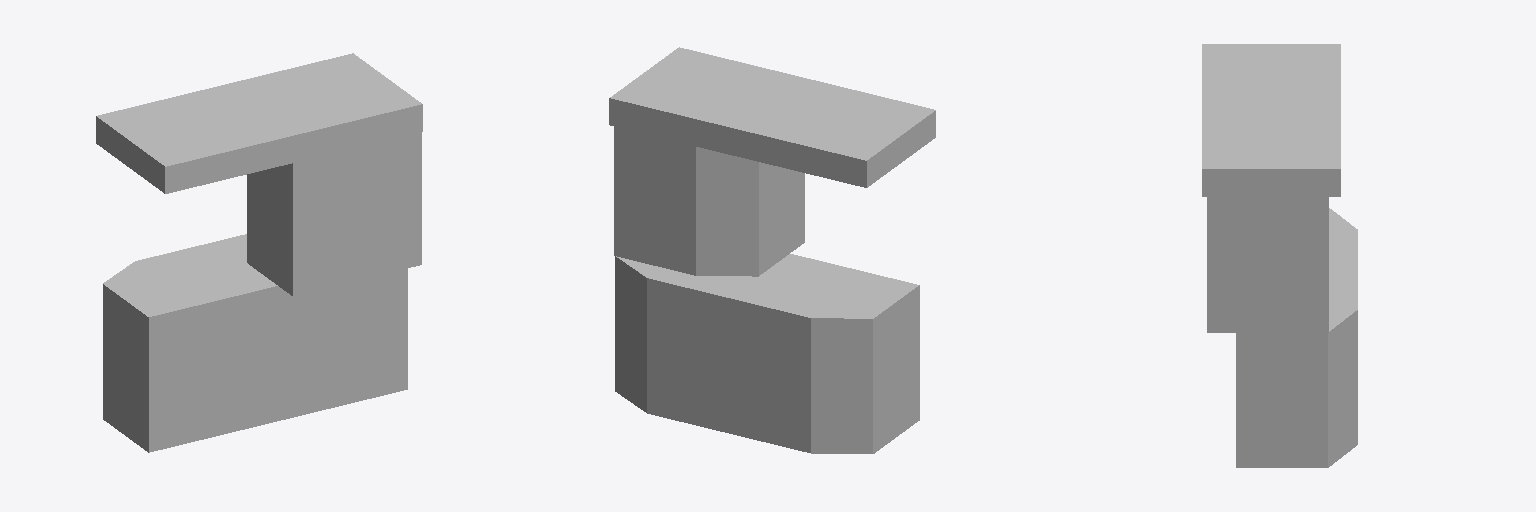
File: mylandscaping_block1_top_l.obj
The picture shows the model from 3 angles: view 1: azimuth 30°, elevation 25°; view 2: azimuth 150°, elevation 25°; view 3: azimuth 270°, elevation 25°; orthographic projection.
Parts seen in each view (by area): view 1: Block_Right_Top_Cube.023; view 2: Block_Right_Top_Cube.023; view 3: Block_Right_Top_Cube.023.
Boxes of the visible parts, x1,y1,x2,y2 form: Block_Right_Top_Cube.023: [96, 53, 422, 452]; Block_Right_Top_Cube.023: [609, 47, 935, 453]; Block_Right_Top_Cube.023: [1202, 44, 1357, 467].
Bounding box in the file's own units: 1 × 1.1 × 0.5206.